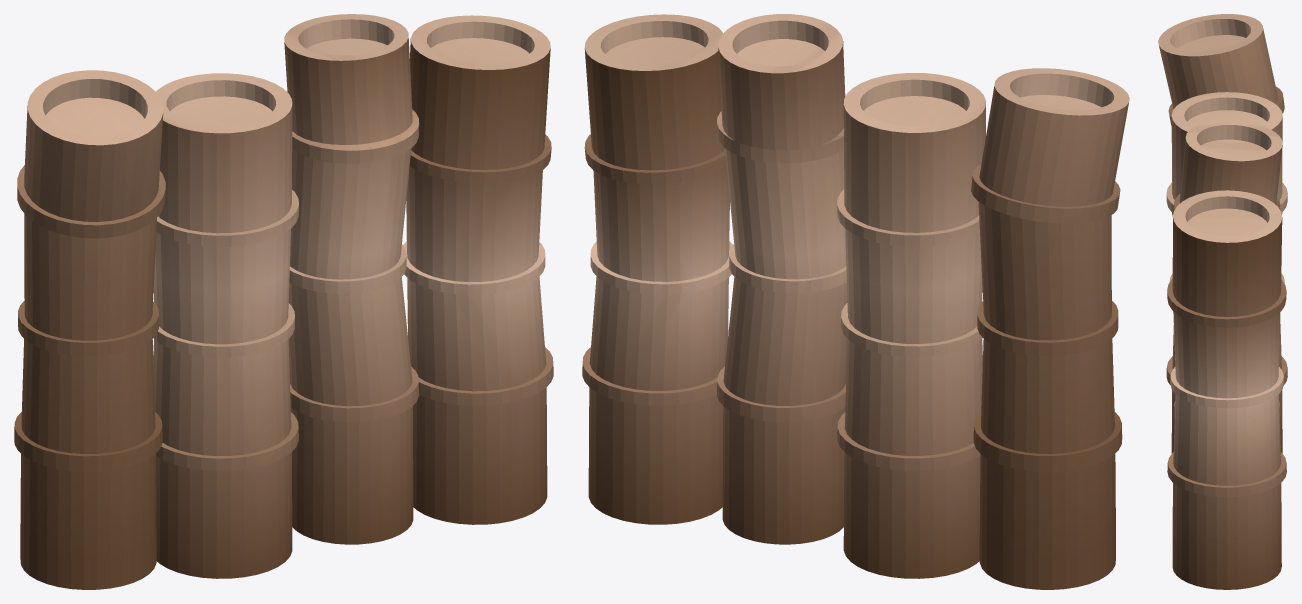
Rendered from Bamboo_1x1.fbx.
3 views of the same model, side by side, from view 1: azimuth 30°, elevation 25°; view 2: azimuth 150°, elevation 25°; view 3: azimuth 270°, elevation 25° (orthographic). The views are drawn at different scales.
Visible parts, largest first — view 1: Cylinder; view 2: Cylinder; view 3: Cylinder.
Part boxes in pixels (bbox=[...]): Cylinder: bbox=[14, 14, 553, 589]; Cylinder: bbox=[582, 14, 1129, 589]; Cylinder: bbox=[1158, 14, 1287, 589].
Bounding box in the file's own units: 146 × 134 × 40.58.
